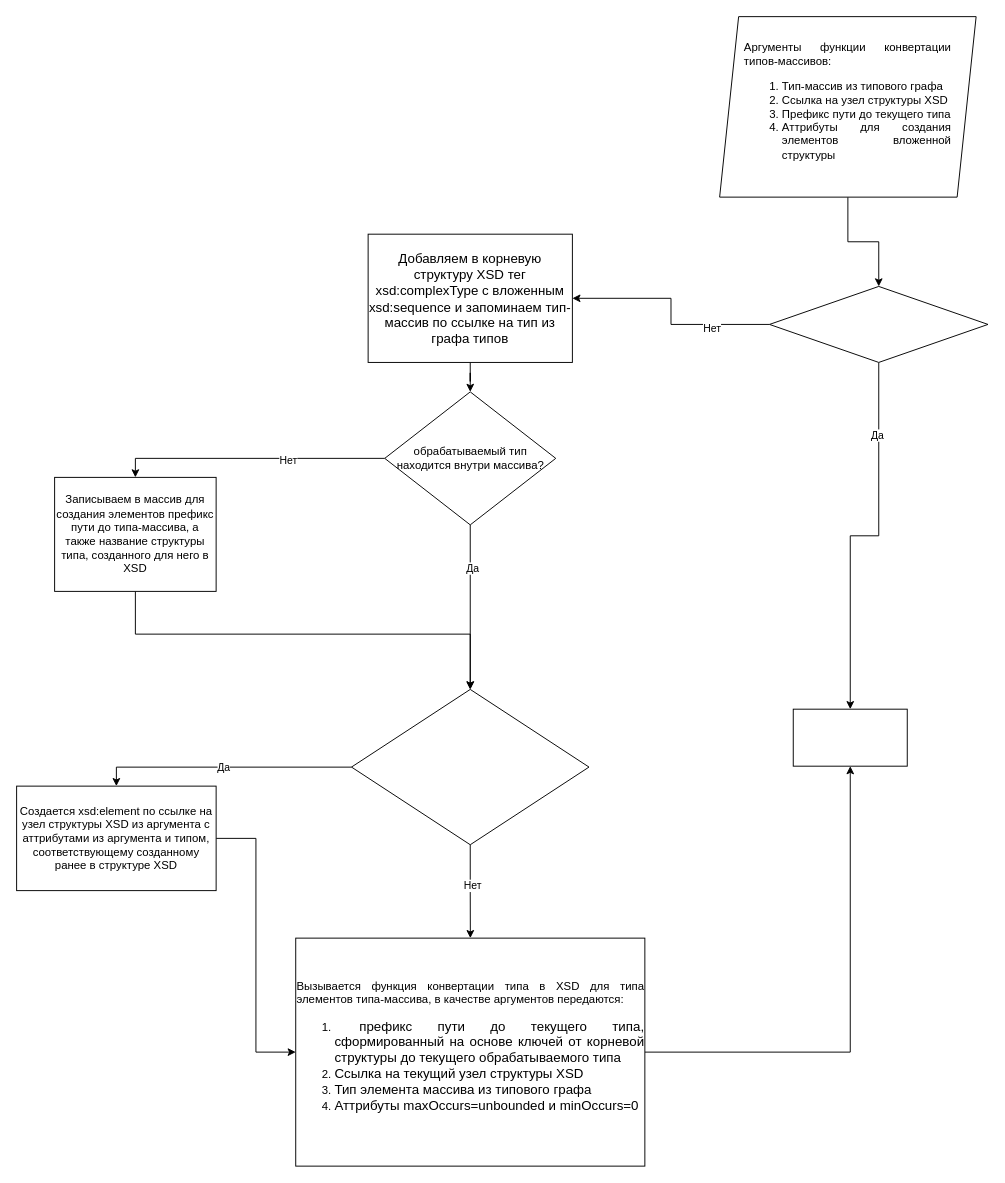
Image size: 1005x1183. Some labels were removed from this diagram. Here are the shapes that lost their labels. From the top down, the box of each, then its label:
(769, 285, 988, 362): Тип был обработан ранее
(792, 708, 907, 766): Завершение обработки типа-массива
(351, 688, 589, 845): ссылка на узел структуры XSD из аргументов функцииотличается от корневого?
